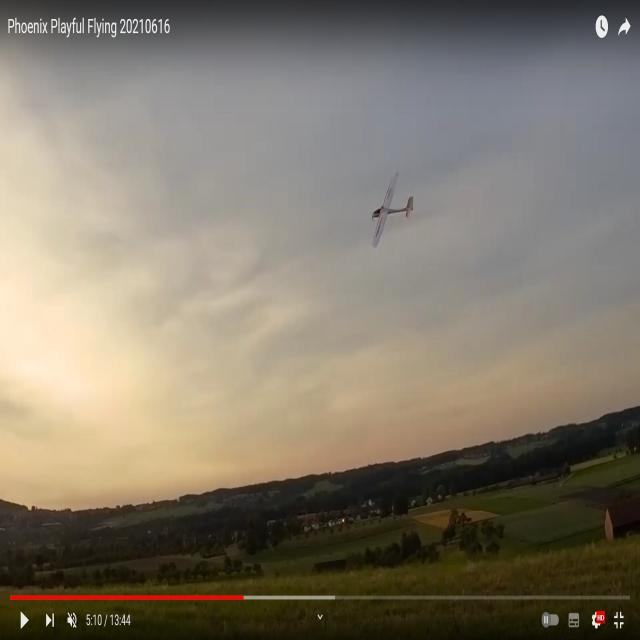iha: (366, 212, 406, 215)
